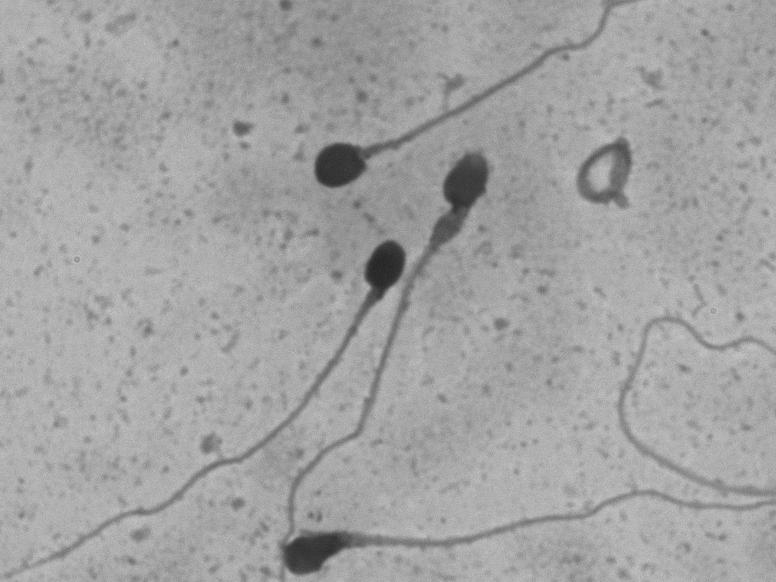Abnormal: (9, 221, 419, 574), (257, 140, 524, 526), (298, 89, 574, 205)
